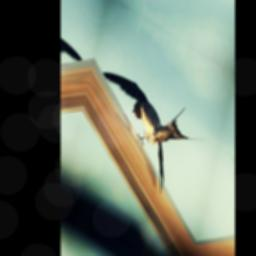Swallow: (84, 55, 212, 212)
